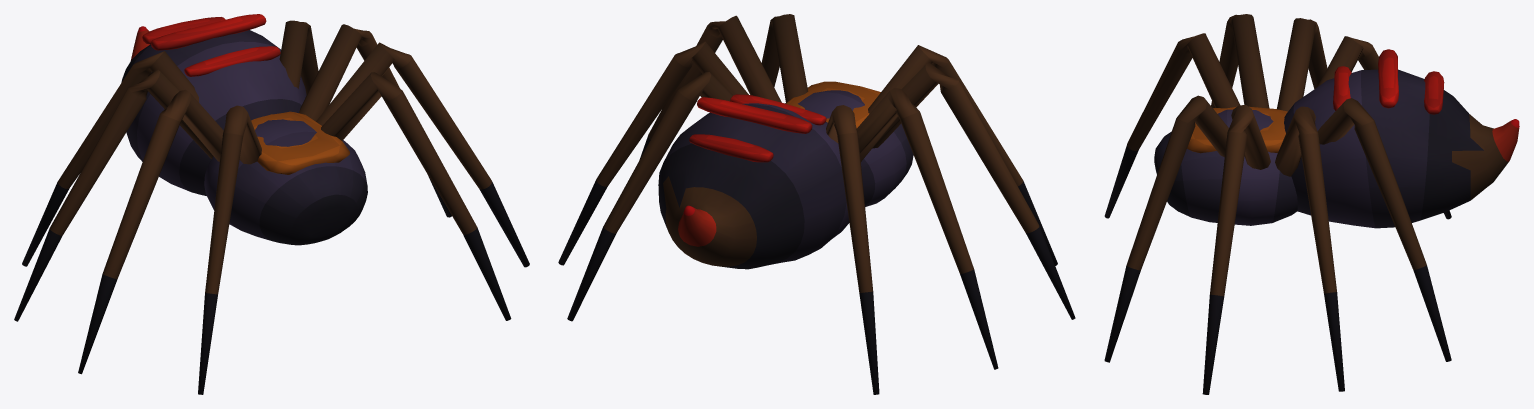
Rendered from creature_arachnid_stalker.glb.
The picture shows the model from 3 angles, left to right: view 1: azimuth 30°, elevation 25°; view 2: azimuth 150°, elevation 25°; view 3: azimuth 270°, elevation 25°; orthographic projection. The views are drawn at different scales.
Parts seen in each view (by area): view 1: Arachnid_Tail, Arachnid_Torso, Arachnid_Leg2_R, Arachnid_Leg1_L, Arachnid_Leg2_L, Arachnid_Leg3_R, Arachnid_Leg1_R, Arachnid_Leg4_R, Arachnid_Leg3_L, Arachnid_Leg4_L; view 2: Arachnid_Tail, Arachnid_Leg3_R, Arachnid_Leg2_R, Arachnid_Leg4_L, Arachnid_Leg3_L, Arachnid_Torso, Arachnid_Leg4_R, Arachnid_Leg2_L, Arachnid_Leg1_L, Arachnid_Leg1_R; view 3: Arachnid_Tail, Arachnid_Torso, Arachnid_Leg2_L, Arachnid_Leg1_L, Arachnid_Leg3_L, Arachnid_Leg4_L, Arachnid_Leg1_R, Arachnid_Leg2_R, Arachnid_Leg3_R, Arachnid_Leg4_R.
Boxes of the visible parts, x1,y1,x2,y2 form: Arachnid_Tail: (121, 14, 306, 195); Arachnid_Torso: (204, 111, 367, 245); Arachnid_Leg2_R: (78, 89, 223, 374); Arachnid_Leg1_L: (321, 72, 511, 320); Arachnid_Leg2_L: (316, 42, 529, 267); Arachnid_Leg3_R: (14, 69, 213, 321); Arachnid_Leg1_R: (198, 105, 261, 394); Arachnid_Leg4_R: (22, 51, 198, 266); Arachnid_Leg3_L: (299, 24, 451, 217); Arachnid_Leg4_L: (279, 20, 318, 94); Arachnid_Tail: (658, 94, 849, 269); Arachnid_Leg3_R: (857, 88, 998, 369); Arachnid_Leg2_R: (872, 62, 1075, 319); Arachnid_Leg4_L: (567, 72, 733, 321); Arachnid_Leg3_L: (558, 41, 748, 265); Arachnid_Torso: (785, 81, 913, 206); Arachnid_Leg4_R: (826, 105, 879, 394); Arachnid_Leg2_L: (639, 15, 781, 159); Arachnid_Leg1_L: (761, 14, 808, 102); Arachnid_Leg1_R: (868, 45, 1057, 265); Arachnid_Tail: (1284, 49, 1519, 228); Arachnid_Torso: (1154, 106, 1297, 225); Arachnid_Leg2_L: (1202, 105, 1270, 394); Arachnid_Leg1_L: (1104, 95, 1228, 362); Arachnid_Leg3_L: (1275, 106, 1344, 391); Arachnid_Leg4_L: (1317, 98, 1451, 361); Arachnid_Leg1_R: (1104, 33, 1239, 218); Arachnid_Leg2_R: (1211, 14, 1269, 108); Arachnid_Leg3_R: (1277, 18, 1327, 111); Arachnid_Leg4_R: (1317, 36, 1451, 219).
Size of the model in its own units: 1.56 by 0.7919 by 1.29.
